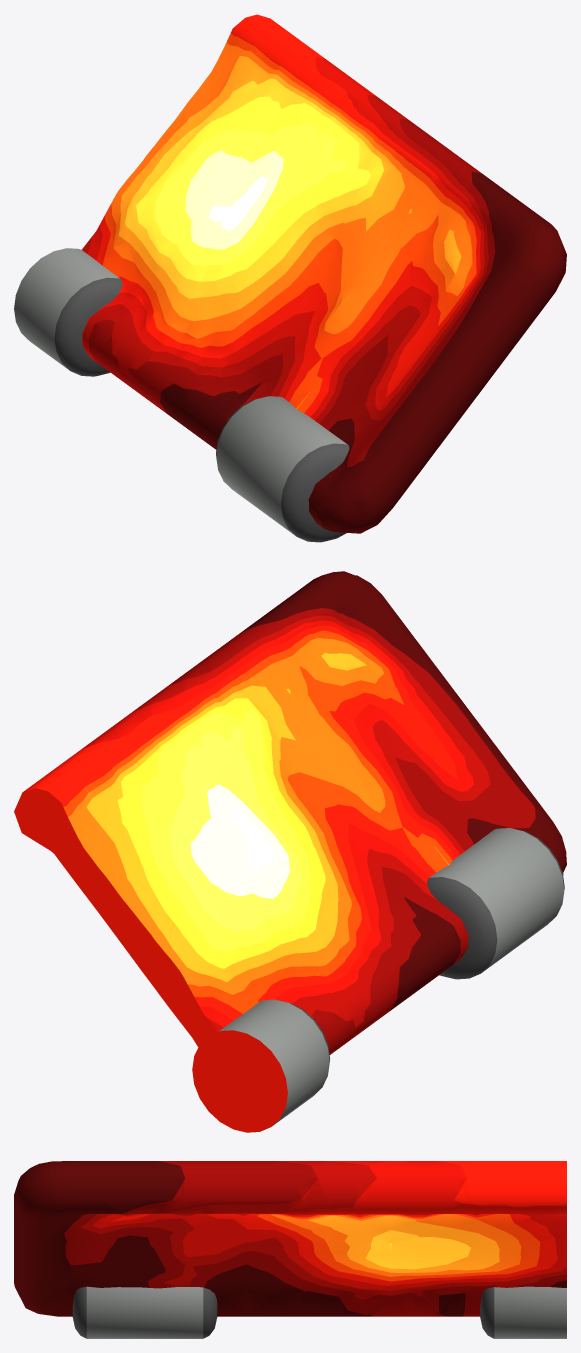
The model's file is fire_flap_271.glb.
The picture shows the model from 3 angles, top to bottom: view 1: azimuth 30°, elevation 25°; view 2: azimuth 150°, elevation 25°; view 3: azimuth 270°, elevation 25°; orthographic projection. The views are drawn at different scales.
Visible parts, largest first — view 1: flap.001, knuckle2.001, knuckle1.001; view 2: flap.001, knuckle2.001, knuckle1.001; view 3: flap.001, knuckle2.001, knuckle1.001.
Boxes of the visible parts, x1,y1,x2,y2 form: flap.001: (82,14,566,533); knuckle2.001: (216,396,349,542); knuckle1.001: (14,248,122,376); flap.001: (14,571,566,1109); knuckle2.001: (427,828,564,979); knuckle1.001: (192,999,329,1132); flap.001: (14,1161,566,1316); knuckle2.001: (72,1286,217,1338); knuckle1.001: (480,1286,566,1338).
Bounding box in the file's own units: 9.44 × 9.65 × 19.
